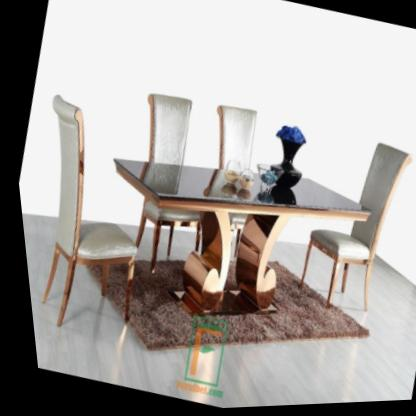Dining Table: (6, 55, 416, 387)
Wooden floor: (209, 259, 416, 410)
